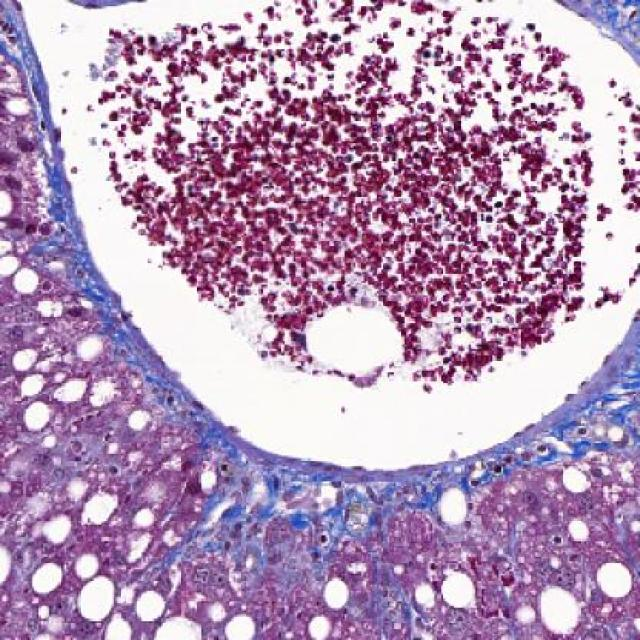fibrosis: (168, 444, 418, 588)
